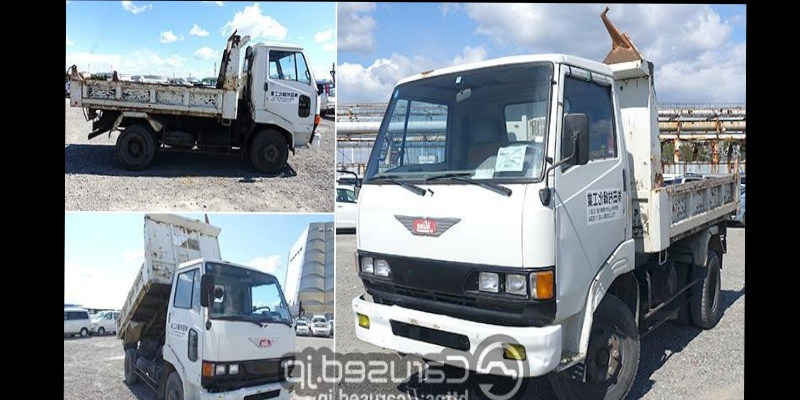truck: (358, 44, 746, 400), (65, 1, 323, 178), (110, 212, 306, 400)
